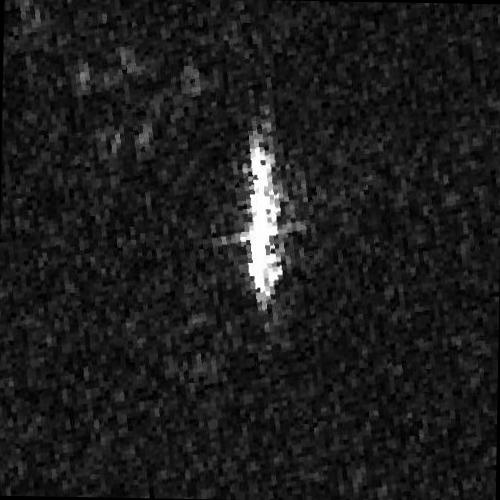ship: (247, 122, 283, 303)
